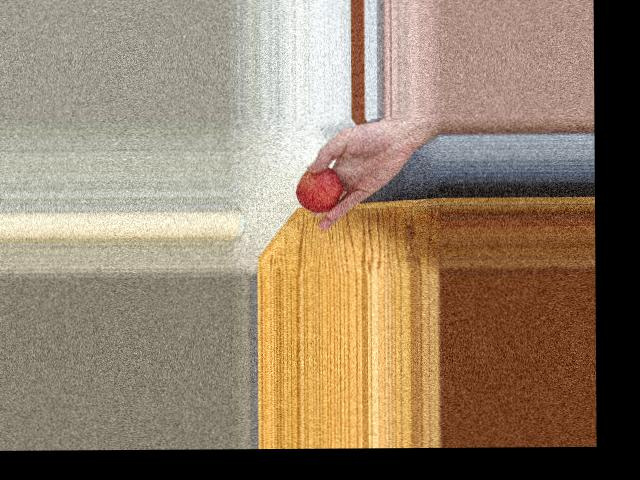apple: (296, 166, 345, 212)
